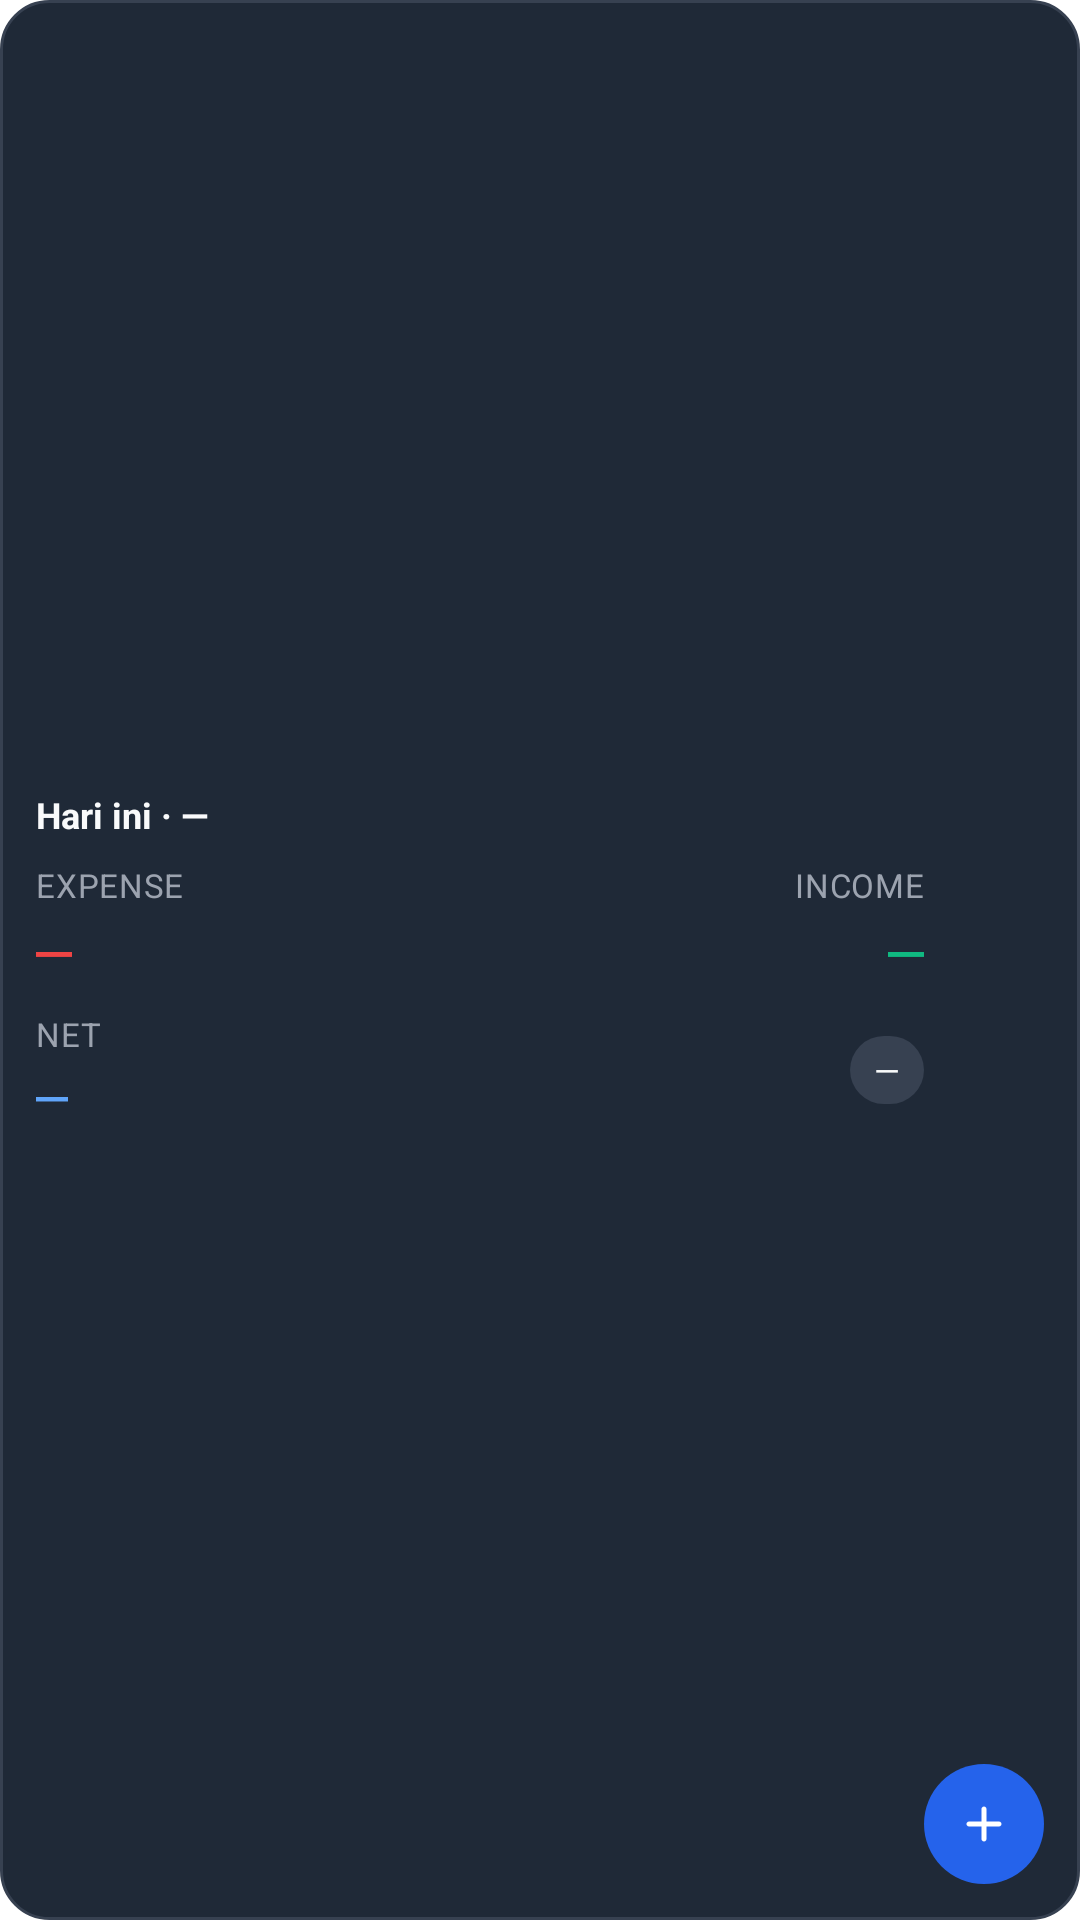

Where icons sit on this 1080*1920 app screen, as {"left": x1, "top": y1, "right": x2, "bottom": y2}:
Tambah transaksi: {"left": 924, "top": 1764, "right": 1044, "bottom": 1884}
